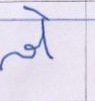e_matra: (23, 6, 50, 18)
